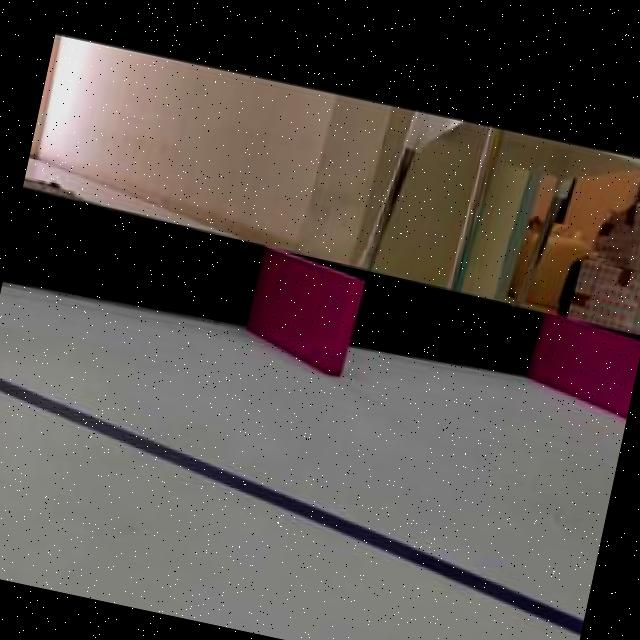xparking: (243, 252, 361, 372), (542, 320, 640, 414)
